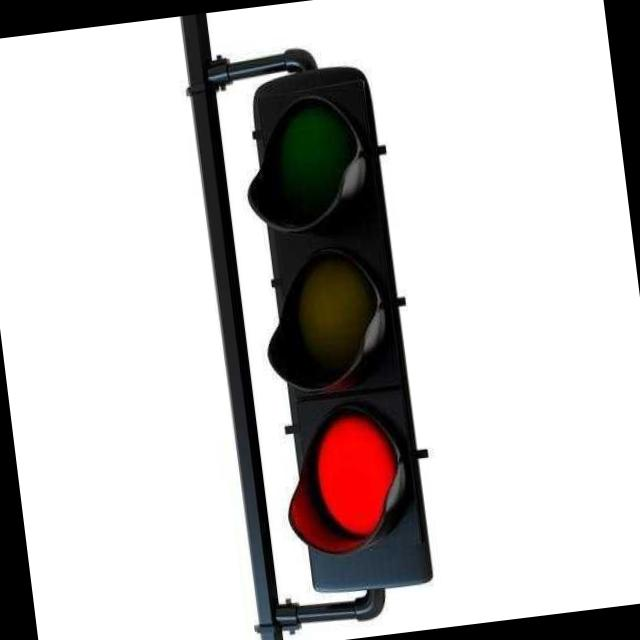red-lights: (278, 384, 426, 555)
